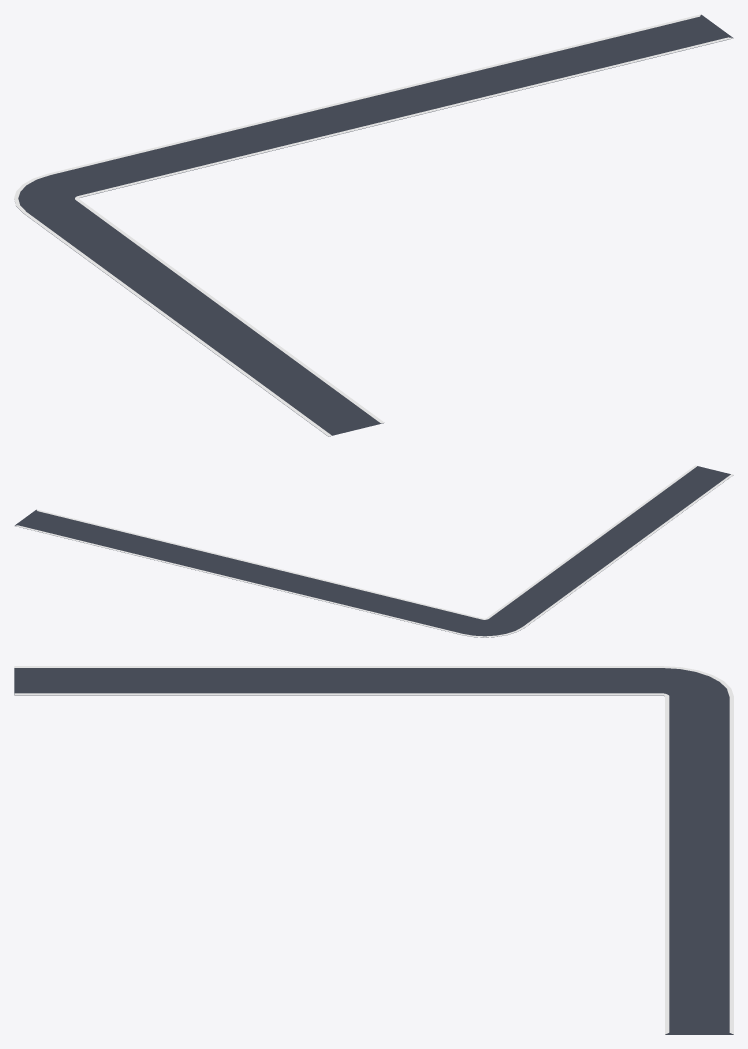
File: road_2.fbx
3 renders of one model, top to bottom at view 1: azimuth 30°, elevation 25°; view 2: azimuth 150°, elevation 25°; view 3: azimuth 270°, elevation 25°, orthographic. The views are drawn at different scales.
Parts seen in each view (by area): view 1: border.002; view 2: border.002; view 3: border.002.
Part boxes in pixels (box(x1,y1,x2,y2)): border.002: box(14, 14, 733, 436); border.002: box(14, 465, 733, 637); border.002: box(14, 666, 733, 1034).
Size of the model in its own units: 1473 by 0.6002 by 1216.
